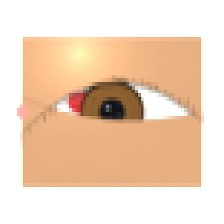hemorrhage_spot: (58, 74, 130, 132)
